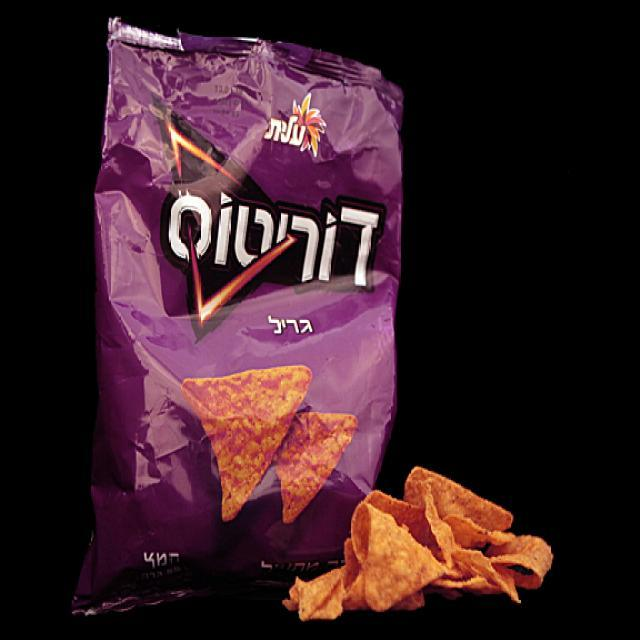Chips: (81, 12, 395, 608)
Chips packaged: (316, 439, 560, 631)
